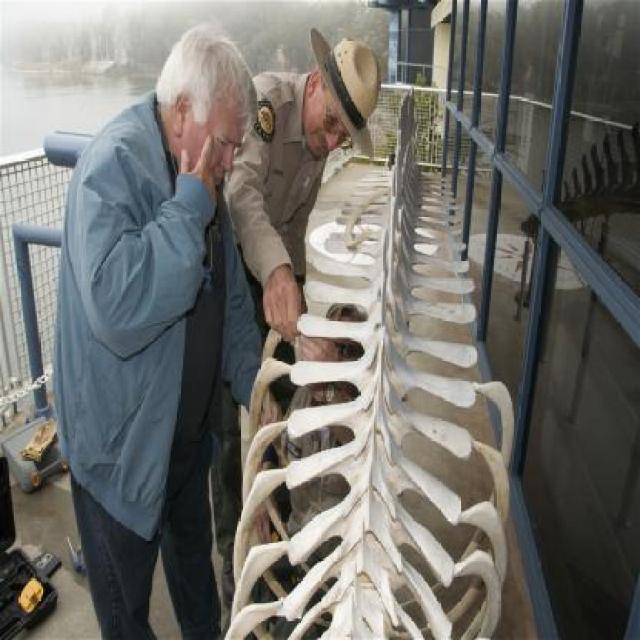Person: (62, 15, 236, 639), (220, 27, 382, 521), (254, 300, 371, 586)
